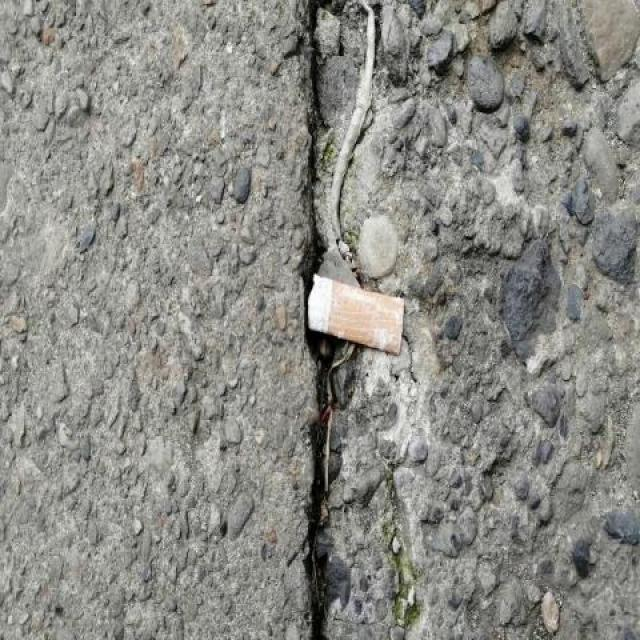non-organic waste: (300, 269, 409, 363)
